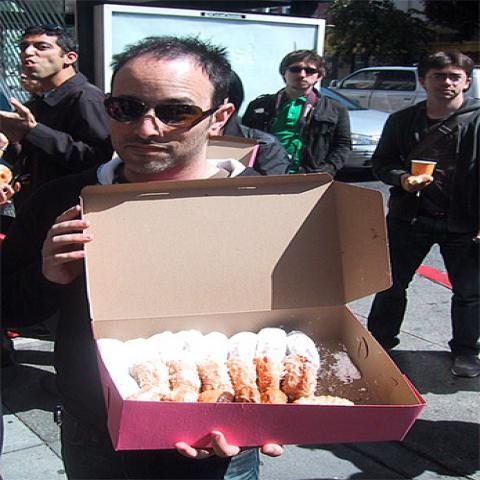car: (326, 66, 478, 114), (321, 85, 393, 168)
